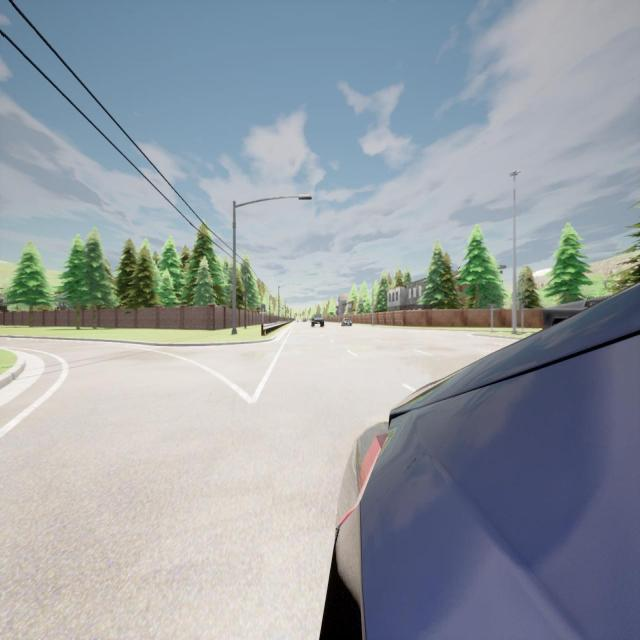Traffic_Signs: (261, 304, 265, 312)
Vehicle: (322, 286, 640, 640), (536, 292, 608, 330), (310, 314, 324, 328), (341, 318, 352, 327)
